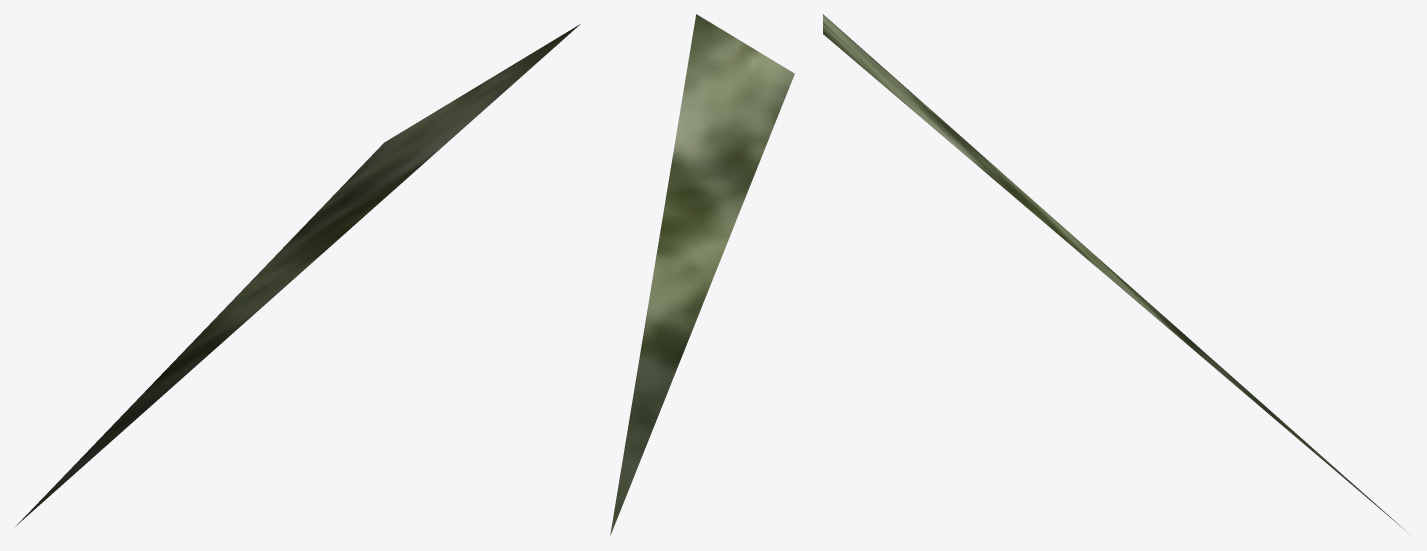
3 renders of one model, left to right at view 1: azimuth 30°, elevation 25°; view 2: azimuth 150°, elevation 25°; view 3: azimuth 270°, elevation 25°, orthographic. The views are drawn at different scales.
Bounding box in the file's own units: 0.2063 × 0.7258 × 0.6694.
Materials: 1 (1 with a texture image).
